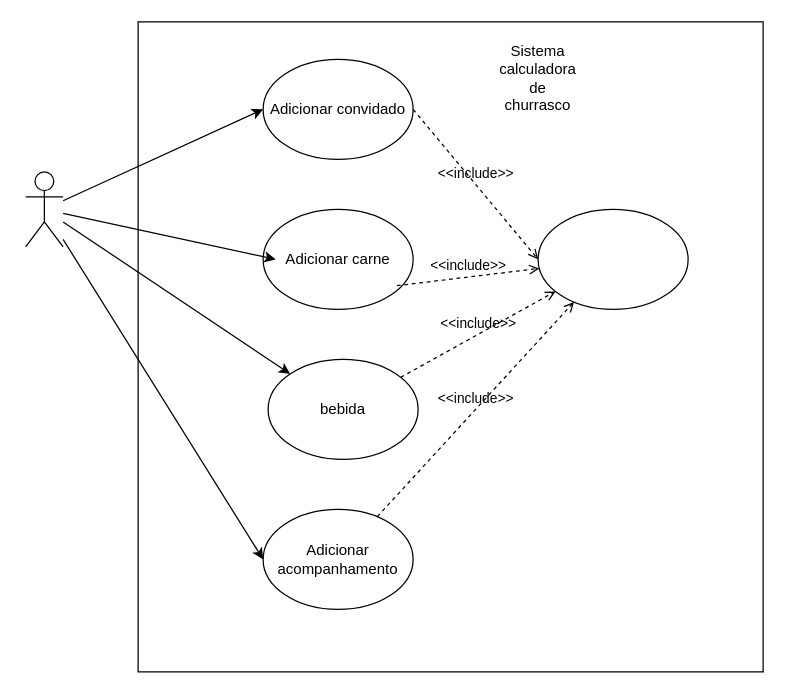
The diagram is 785 pixels wide and 694 high, and some of its shapes have lost their labels. The box of each missing label's shape, as (x1, y1, x2, y2) in pixels:
Cliente: (24, 171, 63, 247)
mostra calculo: (537, 208, 688, 309)
